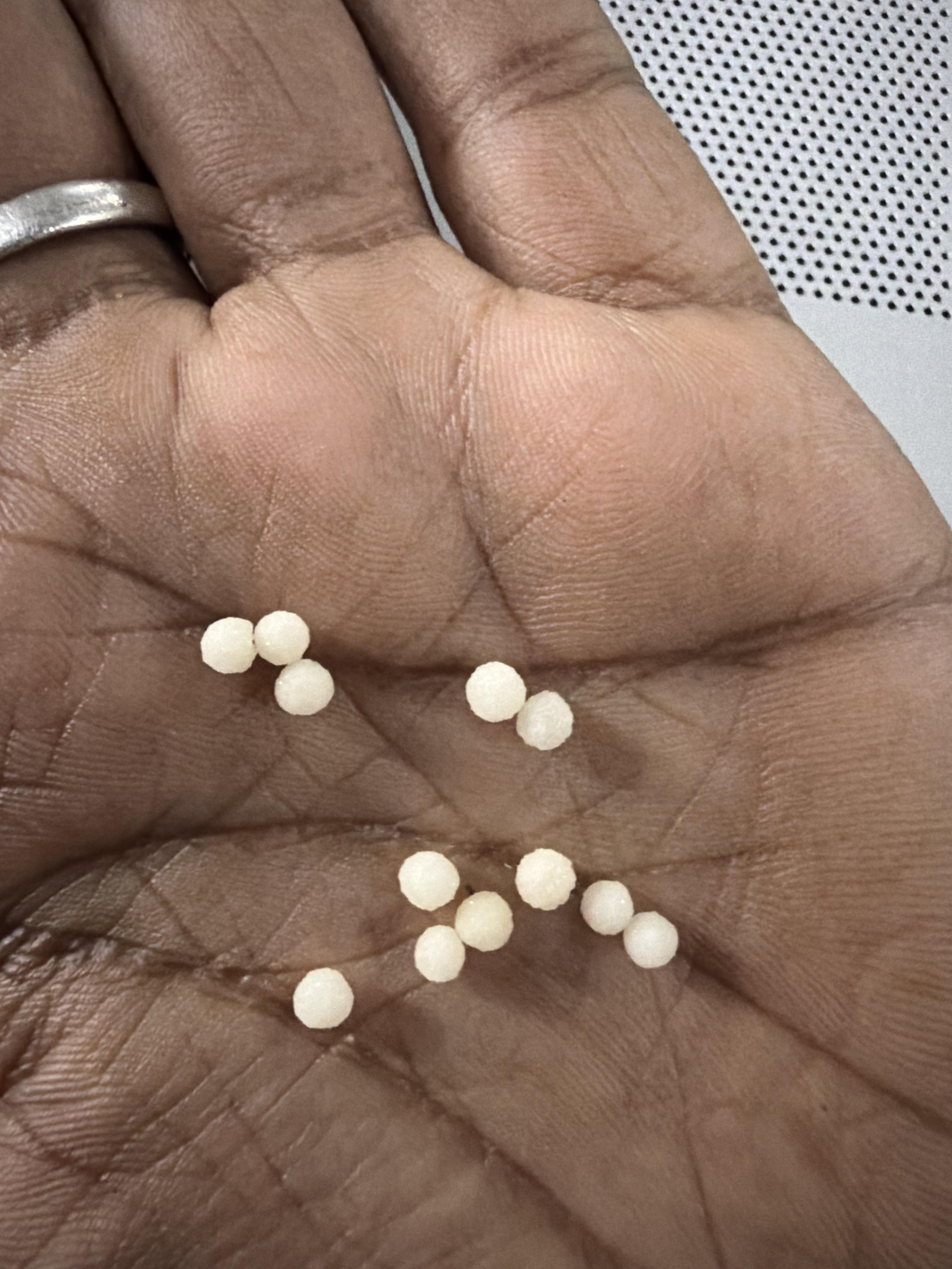pill: (515, 848, 576, 910), (398, 850, 460, 911), (465, 661, 526, 722), (293, 968, 354, 1029), (454, 891, 513, 951), (516, 690, 573, 750), (274, 659, 334, 715), (623, 911, 678, 968), (201, 617, 256, 674), (254, 610, 310, 665), (581, 880, 634, 935), (414, 925, 465, 982)
